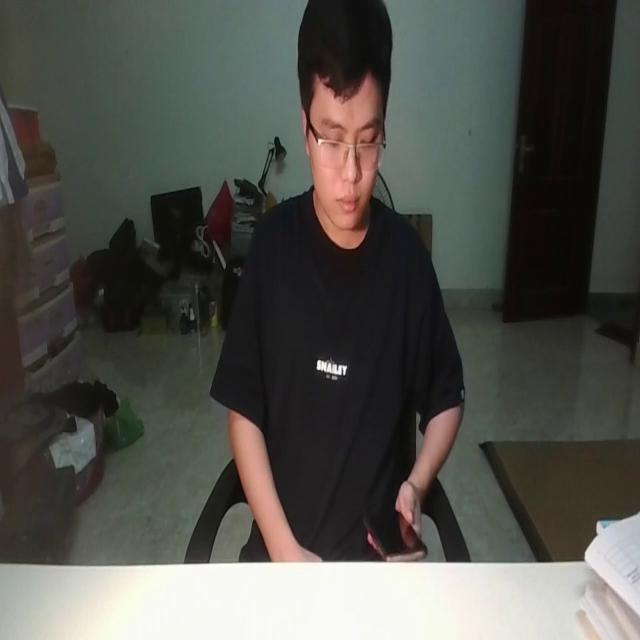phone: (358, 498, 428, 560)
student: (216, 0, 467, 563)
